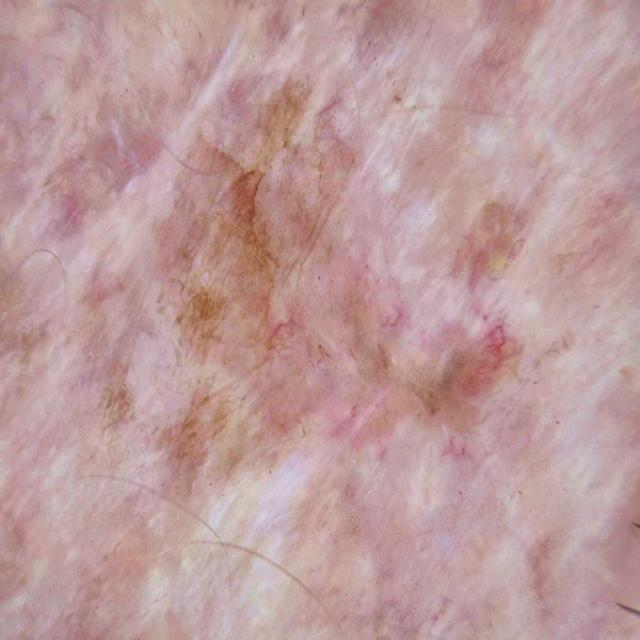Basal-Cell-Carcinoma-BCC-: (149, 62, 563, 528)
